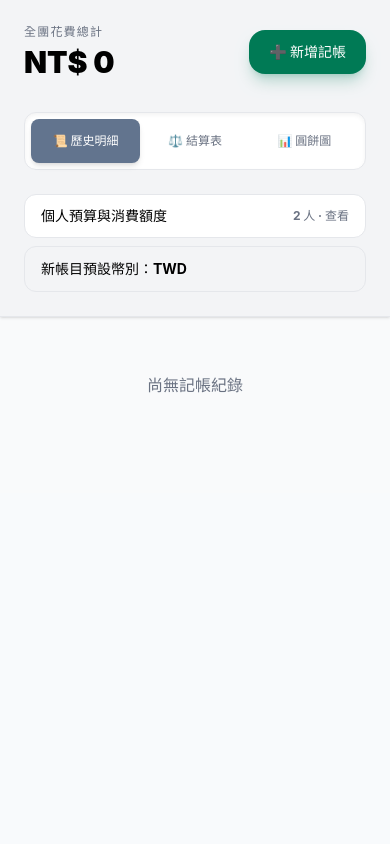
Test: ExpenseSection › explains separate settlement once in all scopes and keeps it when viewing one scope
Click the button with test id "expense-settlement-view-button" at (195, 141), box [140,119,250,163]
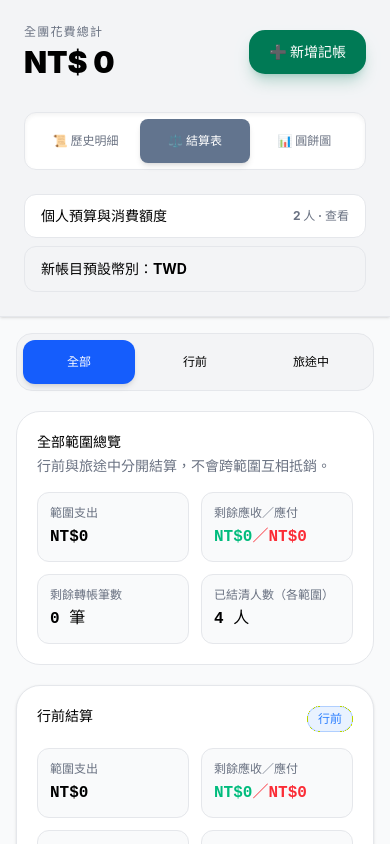
Expected: the text "付款紀錄只抵銷本範圍，與其他範圍分開核對。" is not shown
Result: the element named "結算範圍" is shown at [16,333,374,391]
Result: the text "行前與旅途中分開結算，不會跨範圍互相抵銷。" is shown once at [37,456,353,476]
Click the button "行前" at (195, 362), box [139,340,251,384]
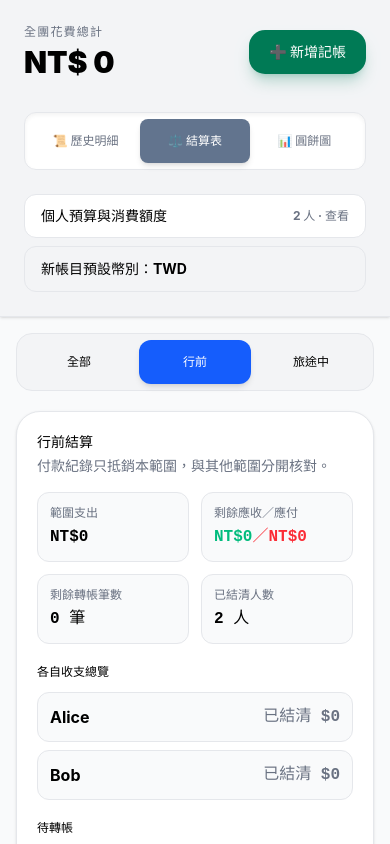
Result: the element with test id "settlement-scope-pretrip" is shown at [16,411,374,843]
Result: the text "付款紀錄只抵銷本範圍，與其他範圍分開核對。" is shown once at [37,456,331,476]
Result: the text "行前與旅途中分開結算，不會跨範圍互相抵銷。" is gone
Click the button "旅途中" at (311, 362), box [255,340,367,384]
(page scrolled)
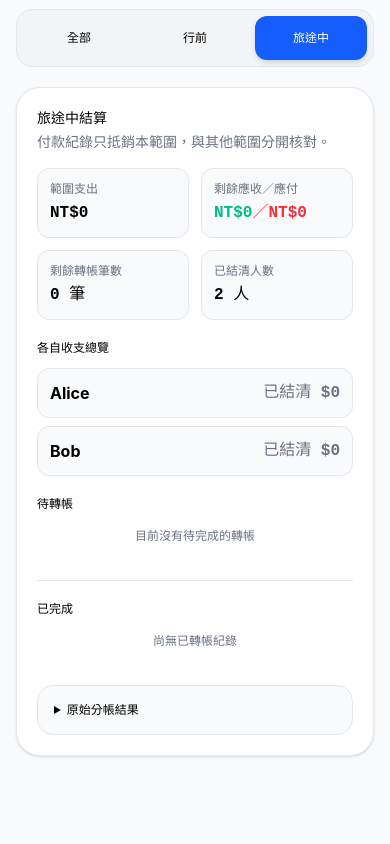
Expected: the text "行前與旅途中分開結算，不會跨範圍互相抵銷。" is not shown
Result: the text "付款紀錄只抵銷本範圍，與其他範圍分開核對。" is shown once at [37,132,331,152]
Result: the element with test id "settlement-scope-intrip" is shown
